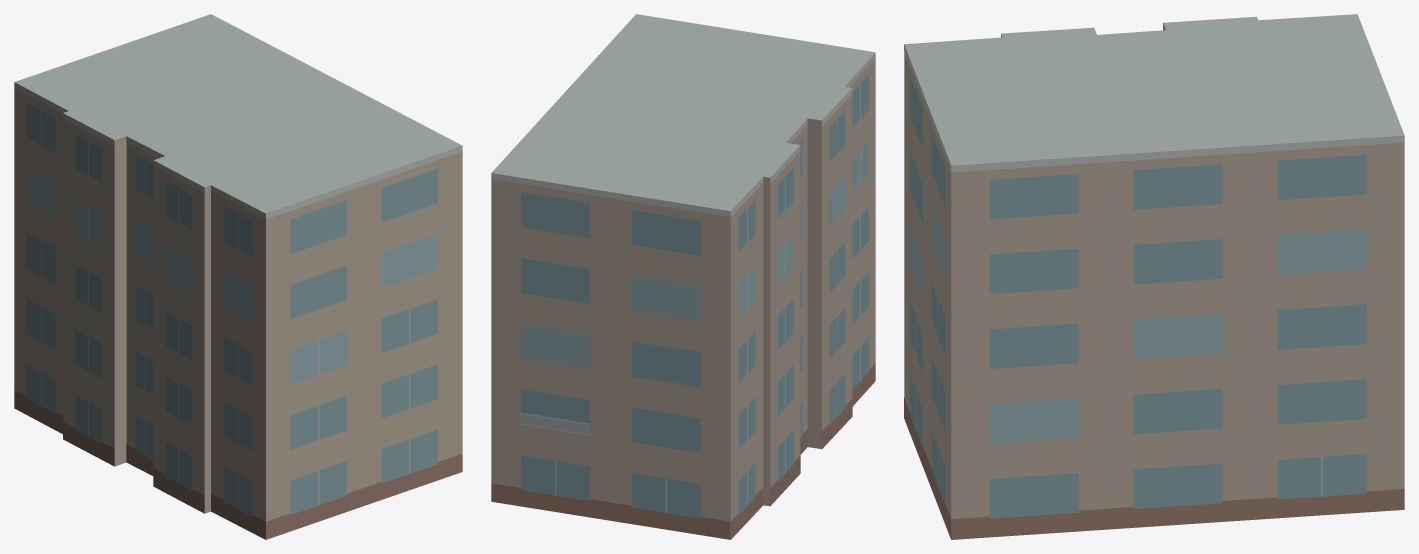
The model's file is survey-upis-32524966.glb.
3 renders of one model, left to right at view 1: azimuth 30°, elevation 25°; view 2: azimuth 150°, elevation 25°; view 3: azimuth 270°, elevation 25°, orthographic. The views are drawn at different scales.
Visible parts, largest first — view 1: survey-upis-32524966.tmp; view 2: survey-upis-32524966.tmp; view 3: survey-upis-32524966.tmp.
Boxes of the visible parts, x1=… form: survey-upis-32524966.tmp: x1=14, y1=14, x2=462, y2=539; survey-upis-32524966.tmp: x1=491, y1=14, x2=875, y2=539; survey-upis-32524966.tmp: x1=904, y1=14, x2=1404, y2=539.
Size of the model in its own units: 11.49 by 13.2 by 16.01.
